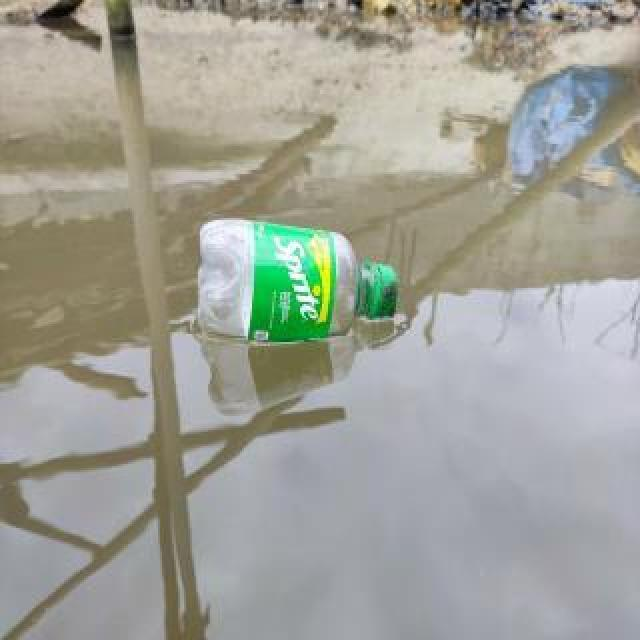bottle: (196, 215, 402, 347)
